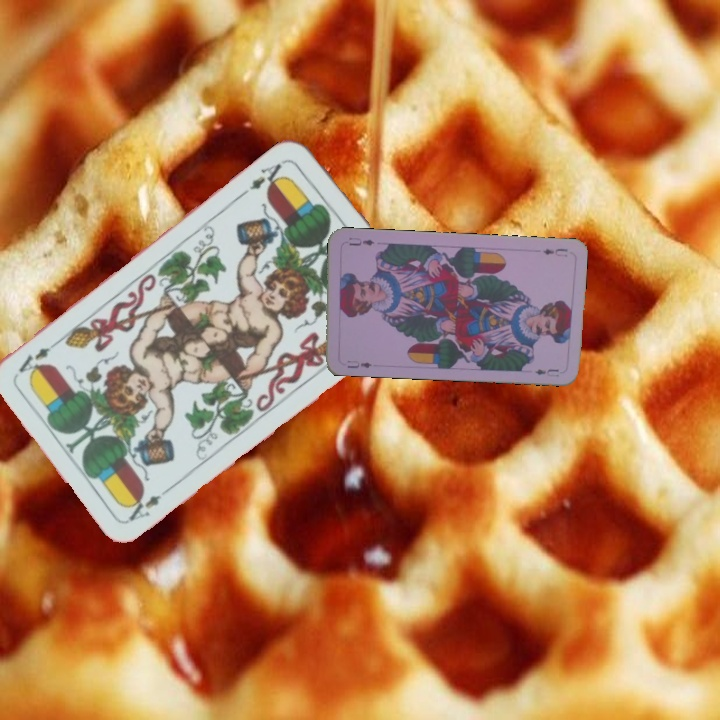EA: (123, 482, 175, 524), (245, 155, 289, 193)
EU: (343, 356, 374, 371), (539, 244, 570, 259)
